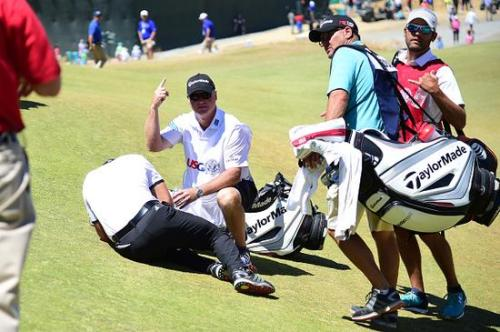10+: (2, 1, 499, 331)
down: (79, 151, 278, 296)
